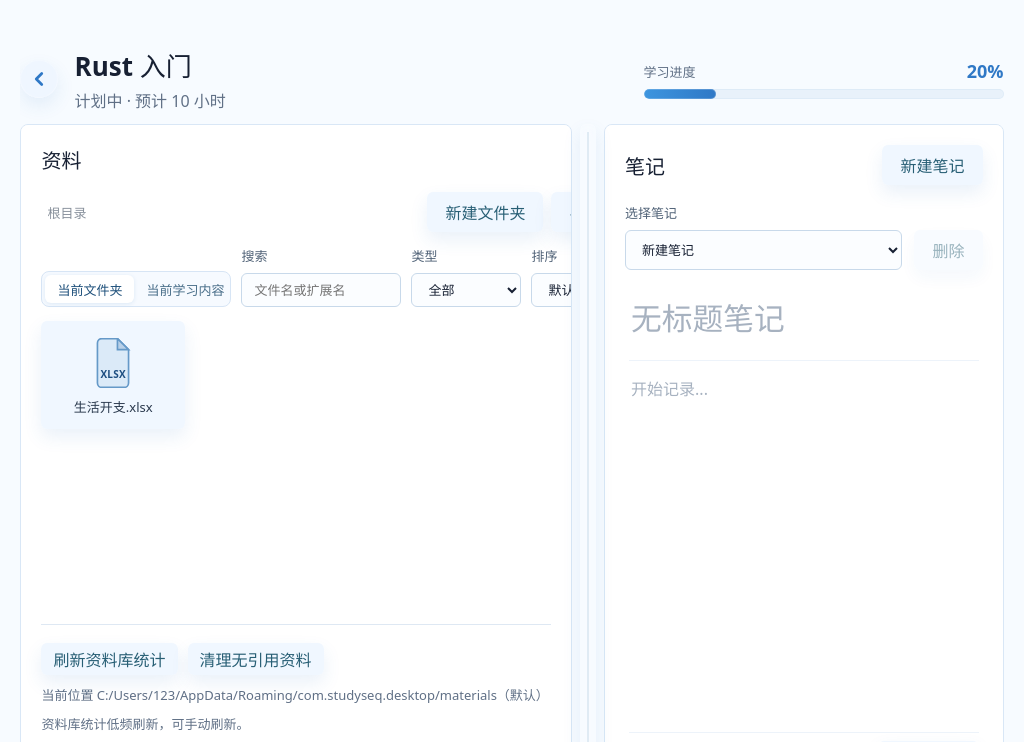
Test: StudyDetailPage › opens XLSX-derived PDF with a readable minimum scale
Expected: the heading "生活开支.xlsx" is shown, [74, 399, 153, 416]
Click the button with aria-label "打开资料：生活开支.xlsx". click: x=113, y=375
box: [42, 321, 185, 428]
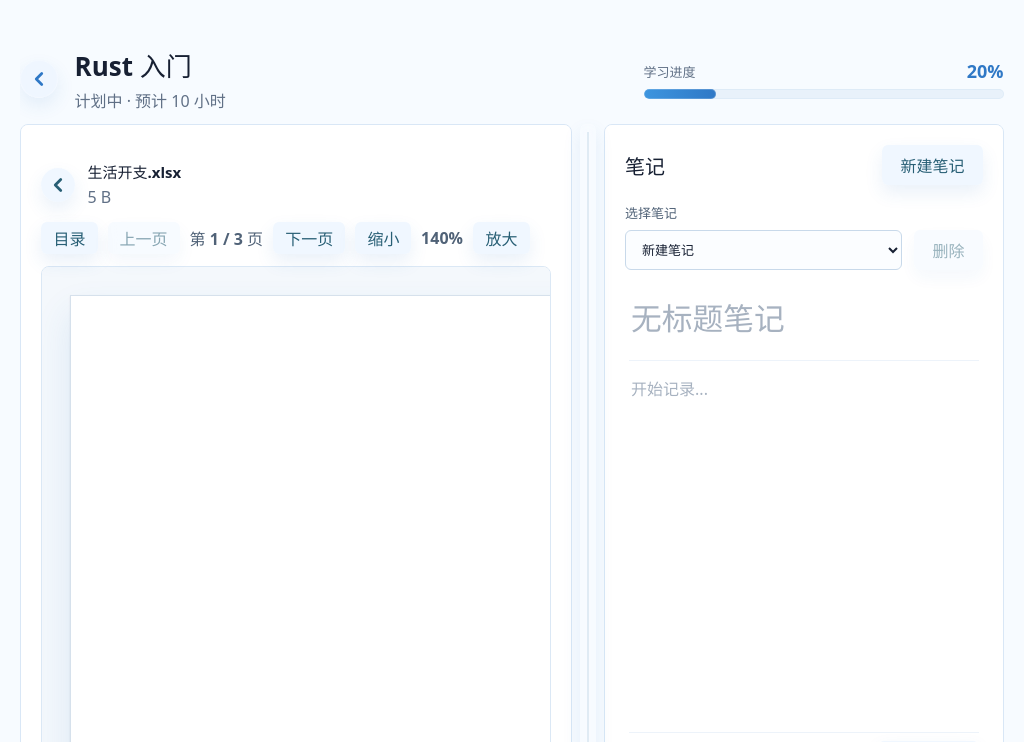
Expected: the text "第 1 / 3 页" is shown, [190, 226, 263, 250]
Expected: the text "140%" is shown, [421, 227, 463, 249]
